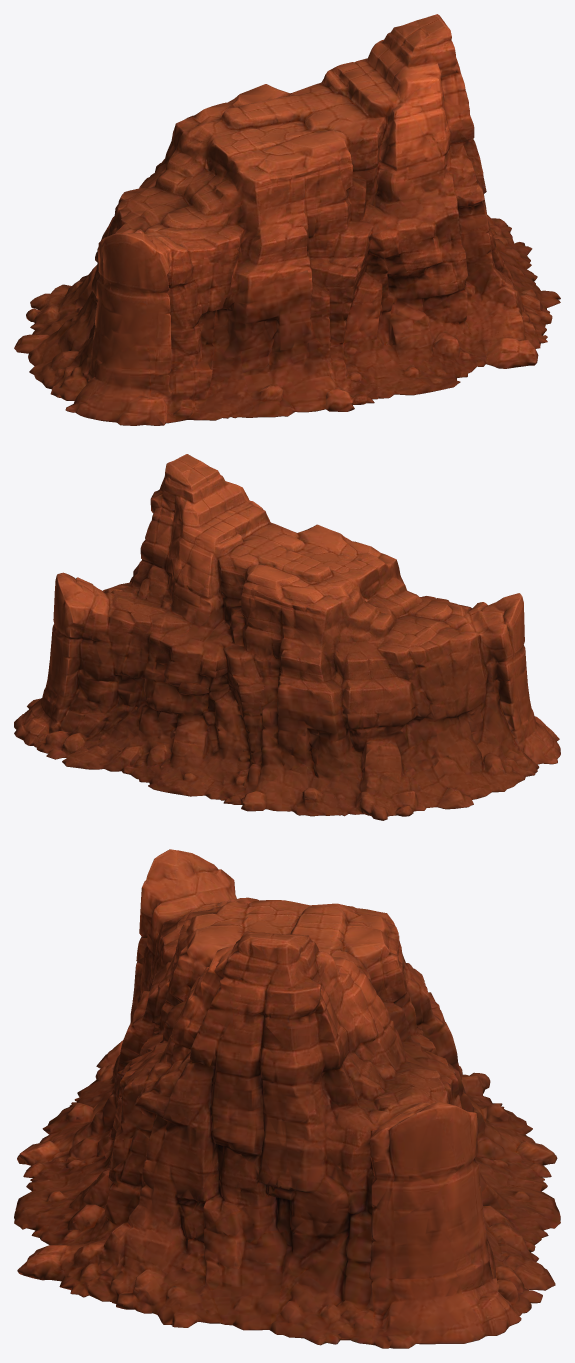
The model's file is desert_cliff_lite.glb.
The picture shows the model from 3 angles, top to bottom: view 1: azimuth 30°, elevation 25°; view 2: azimuth 150°, elevation 25°; view 3: azimuth 270°, elevation 25°; orthographic projection. The views are drawn at different scales.
Visible parts, largest first — view 1: mesh_node; view 2: mesh_node; view 3: mesh_node.
Part boxes in pixels (box(x1,y1,x2,y2)): mesh_node: box(14, 14, 560, 425); mesh_node: box(14, 454, 560, 820); mesh_node: box(14, 849, 560, 1348).
Bounding box in the file's own units: 1.9 × 0.9434 × 1.38.
1 material, 1 textured.
